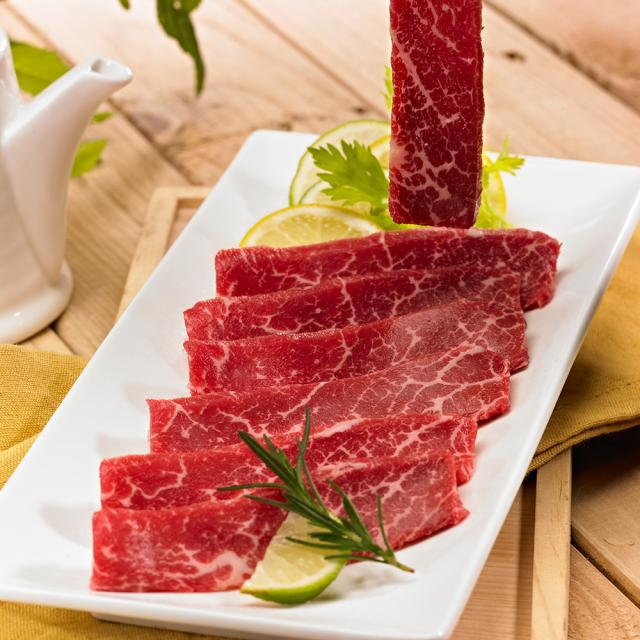beef: (235, 288, 488, 426)
